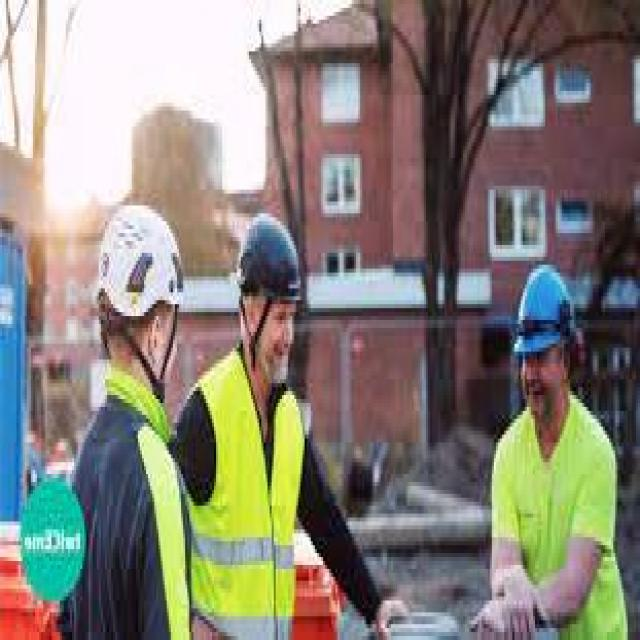Reflective-Jacket: (185, 347, 312, 640), (93, 371, 187, 640)
Safety-Helmet: (86, 186, 194, 332), (228, 202, 309, 316), (506, 253, 584, 363)
